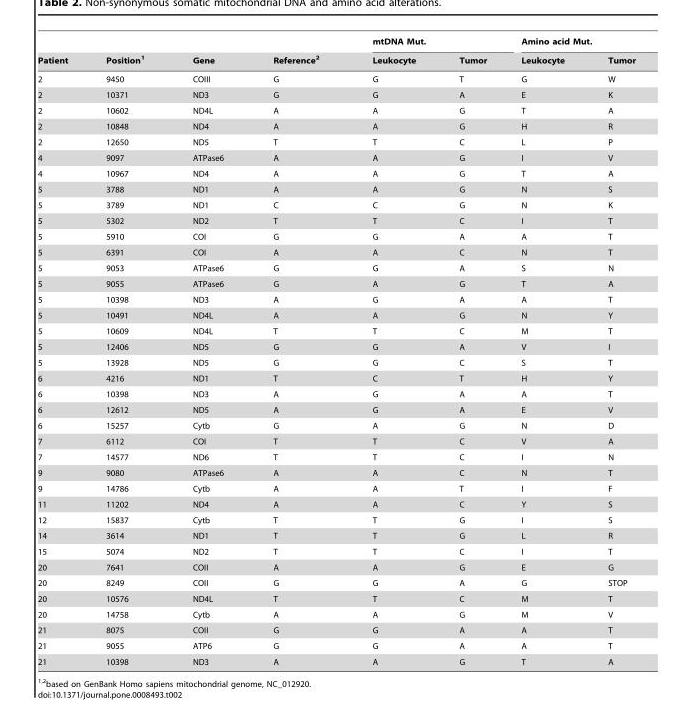table: (37, 36, 635, 665)
table column: (247, 36, 345, 665), (345, 36, 436, 665), (503, 36, 585, 665), (86, 36, 167, 665), (167, 36, 247, 665), (436, 36, 503, 665), (585, 36, 635, 665), (37, 36, 86, 665)
table column header: (37, 36, 635, 69)
table row: (37, 49, 635, 69), (37, 69, 635, 86), (37, 86, 635, 102), (37, 102, 635, 118), (37, 118, 635, 134), (37, 149, 635, 165), (37, 165, 635, 181), (37, 181, 635, 197), (37, 212, 635, 228), (37, 228, 635, 244), (37, 244, 635, 260), (37, 275, 635, 291), (37, 291, 635, 307), (37, 307, 635, 323), (37, 338, 635, 354), (37, 354, 635, 370), (37, 370, 635, 386), (37, 401, 635, 417), (37, 417, 635, 433), (37, 433, 635, 449), (37, 464, 635, 480), (37, 480, 635, 496), (37, 496, 635, 512), (37, 527, 635, 543), (37, 543, 635, 559), (37, 559, 635, 575), (37, 590, 635, 606), (37, 606, 635, 622), (37, 637, 635, 653), (37, 134, 635, 149), (37, 197, 635, 212), (37, 260, 635, 275), (37, 323, 635, 338), (37, 386, 635, 401), (37, 449, 635, 464), (37, 512, 635, 527), (37, 575, 635, 590), (37, 622, 635, 637), (37, 36, 635, 49), (37, 653, 635, 665)
table spanning cell: (247, 36, 345, 69), (86, 36, 167, 69), (167, 36, 247, 69), (345, 36, 503, 49), (503, 36, 635, 49), (37, 36, 86, 69)
